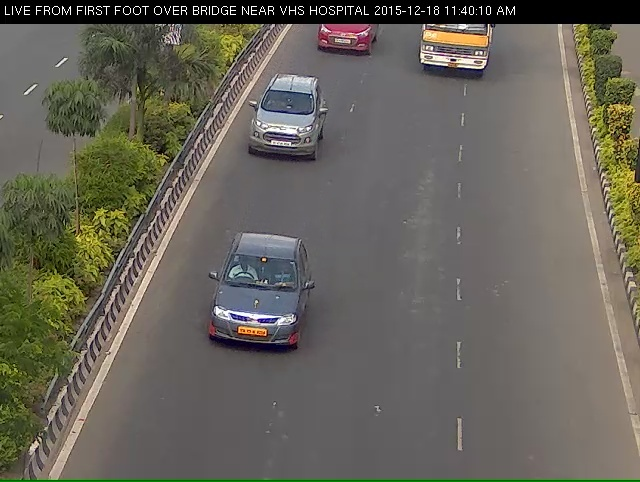Bus: (417, 17, 495, 87)
Car: (193, 256, 304, 394), (234, 94, 330, 190), (307, 24, 377, 63)
